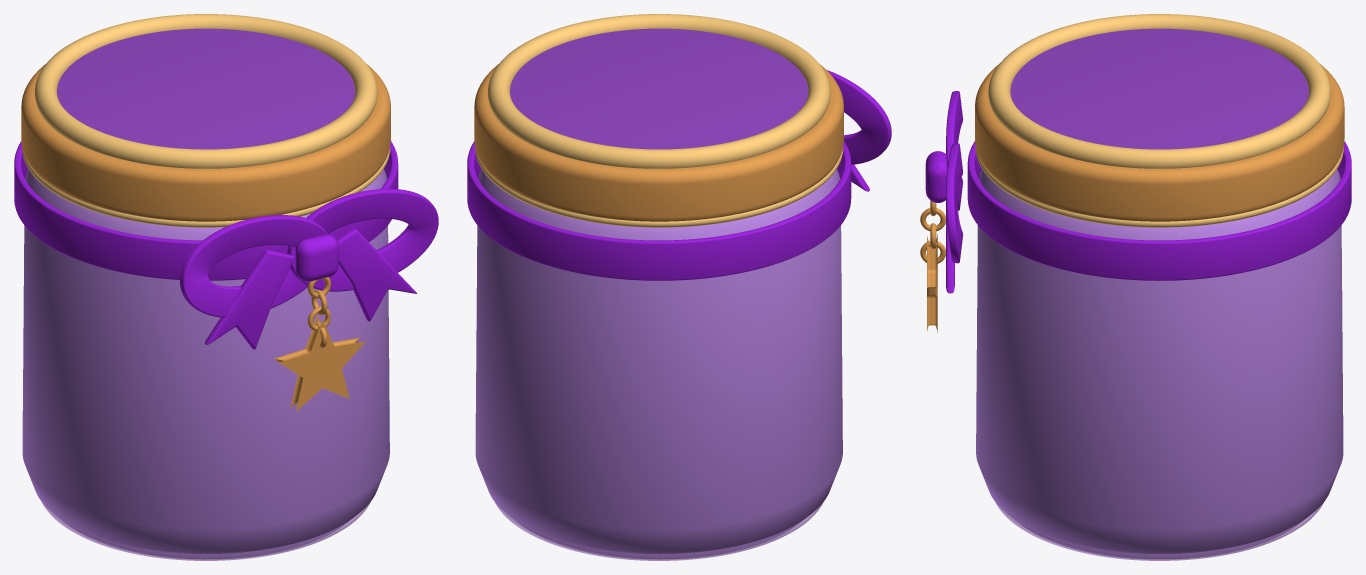
The model's file is jar.glb.
3 renders of one model, left to right at view 1: azimuth 30°, elevation 25°; view 2: azimuth 150°, elevation 25°; view 3: azimuth 270°, elevation 25°, orthographic.
Parts seen in each view (by area): view 1: JAR_Glass_Body, LID_Purple_Top_Inset, LID_Main_Gold_Cap, LID_Gold_Outer_Rim, RIBBON_Wrapped_Band, BOW_Left_Loop, BOW_Right_Loop, RIBBON_Left_Tail, STAR_Main_Pendant, RIBBON_Right_Tail, JAR_Thick_Glass_Foot, LID_Gold_Lower_Rim (+1 smaller); view 2: JAR_Glass_Body, LID_Purple_Top_Inset, LID_Main_Gold_Cap, RIBBON_Wrapped_Band, LID_Gold_Outer_Rim, BOW_Left_Loop, LID_Gold_Lower_Rim, JAR_Thick_Glass_Foot; view 3: JAR_Glass_Body, LID_Purple_Top_Inset, LID_Main_Gold_Cap, RIBBON_Wrapped_Band, LID_Gold_Outer_Rim, LID_Gold_Lower_Rim, JAR_Thick_Glass_Foot, BOW_Right_Loop, BOW_Center_Knot, BOW_Left_Loop, STAR_Main_Pendant.
Part boxes in pixels (left/top/right/bottom): JAR_Glass_Body: left=22, top=169, right=389, bottom=559; LID_Purple_Top_Inset: left=57, top=28, right=355, bottom=149; LID_Main_Gold_Cap: left=21, top=64, right=390, bottom=221; LID_Gold_Outer_Rim: left=34, top=14, right=377, bottom=168; RIBBON_Wrapped_Band: left=14, top=141, right=398, bottom=280; BOW_Left_Loop: left=180, top=215, right=327, bottom=317; BOW_Right_Loop: left=287, top=188, right=438, bottom=291; RIBBON_Left_Tail: left=204, top=249, right=294, bottom=349; STAR_Main_Pendant: left=274, top=315, right=365, bottom=411; RIBBON_Right_Tail: left=336, top=228, right=416, bottom=321; JAR_Thick_Glass_Foot: left=42, top=502, right=370, bottom=560; LID_Gold_Lower_Rim: left=22, top=147, right=390, bottom=227; JAR_Glass_Body: left=475, top=169, right=842, bottom=559; LID_Purple_Top_Inset: left=510, top=28, right=808, bottom=149; LID_Main_Gold_Cap: left=474, top=64, right=843, bottom=221; RIBBON_Wrapped_Band: left=467, top=141, right=851, bottom=280; LID_Gold_Outer_Rim: left=487, top=14, right=830, bottom=168; BOW_Left_Loop: left=827, top=70, right=891, bottom=164; LID_Gold_Lower_Rim: left=475, top=147, right=843, bottom=227; JAR_Thick_Glass_Foot: left=495, top=502, right=823, bottom=560; JAR_Glass_Body: left=976, top=169, right=1343, bottom=559; LID_Purple_Top_Inset: left=1010, top=28, right=1308, bottom=149; LID_Main_Gold_Cap: left=975, top=63, right=1344, bottom=221; RIBBON_Wrapped_Band: left=967, top=141, right=1351, bottom=280; LID_Gold_Outer_Rim: left=988, top=14, right=1330, bottom=168; LID_Gold_Lower_Rim: left=975, top=146, right=1343, bottom=227; JAR_Thick_Glass_Foot: left=995, top=502, right=1323, bottom=560; BOW_Right_Loop: left=946, top=143, right=963, bottom=263; BOW_Center_Knot: left=925, top=151, right=947, bottom=202; BOW_Left_Loop: left=946, top=91, right=963, bottom=210; STAR_Main_Pendant: left=927, top=234, right=937, bottom=332.
Size of the model in its own units: 3.6 by 4.24 by 4.04.
